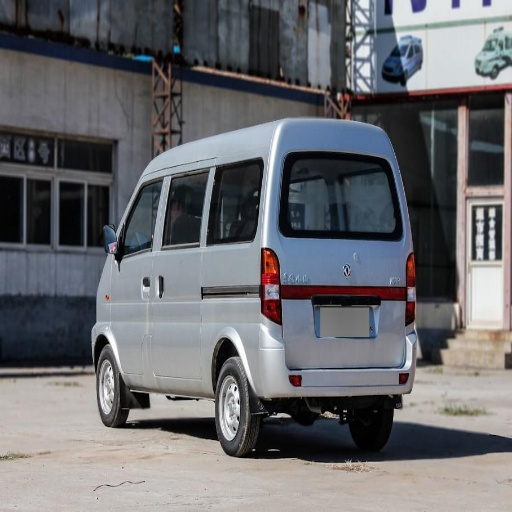back_bumper: (250, 317, 413, 397)
back_glass: (280, 154, 394, 237)
back_left_door: (168, 169, 208, 211)
trunk: (259, 242, 406, 364), (153, 254, 269, 384)
